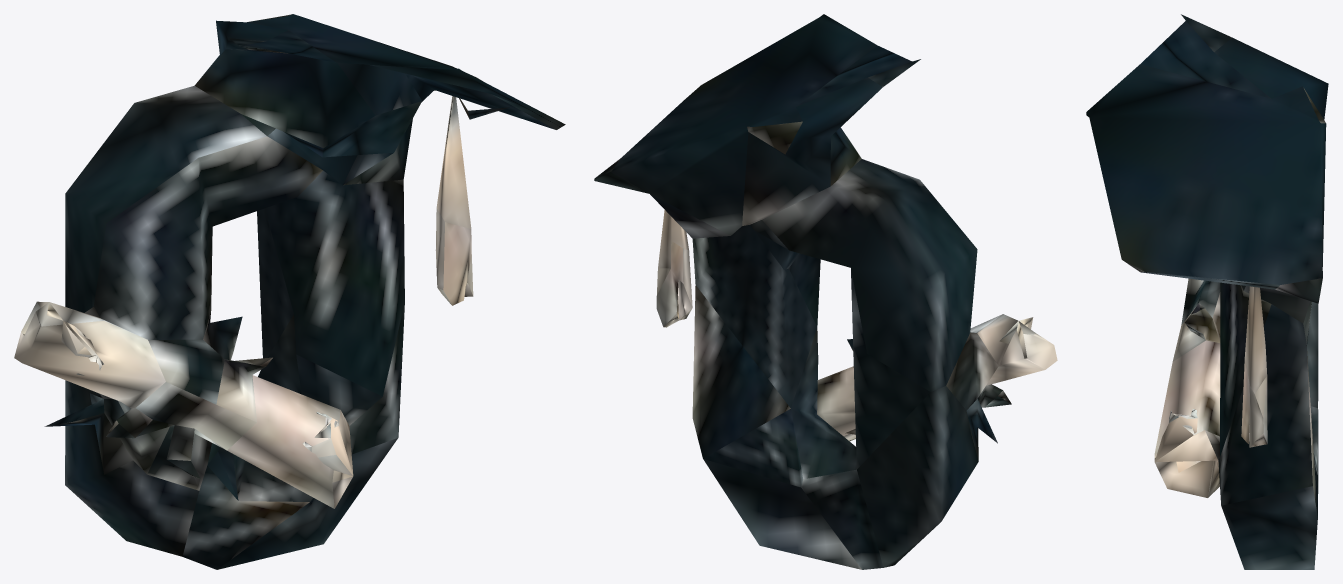
The picture shows the model from 3 angles, left to right: view 1: azimuth 30°, elevation 25°; view 2: azimuth 150°, elevation 25°; view 3: azimuth 270°, elevation 25°; orthographic projection. The views are drawn at different scales.
Parts seen in each view (by area): view 1: Graduation-0; view 2: Graduation-0; view 3: Graduation-0.
Part boxes in pixels (<box>): Graduation-0: <box>14,14,565,569</box>; Graduation-0: <box>594,14,1057,569</box>; Graduation-0: <box>1086,14,1328,569</box>.
Size of the model in its own units: 0.2743 by 0.2887 by 0.1259.
Materials: 1 (1 with a texture image).
